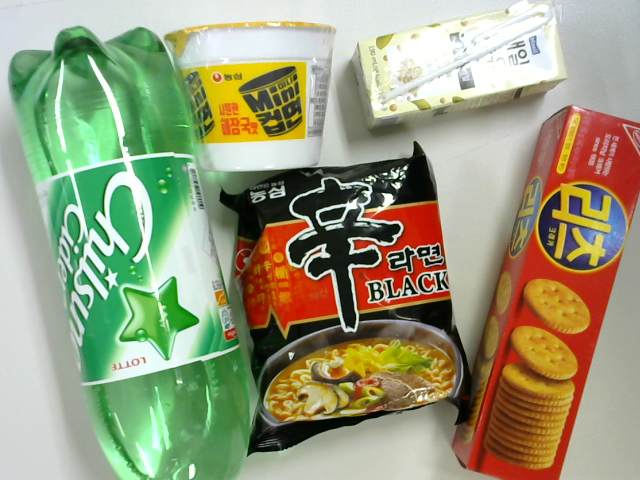99.89_Soymilk: (351, 2, 571, 124)
Chilseong_Cider_1.5L: (7, 26, 251, 480)
Hejangmini: (171, 22, 335, 172)
Ritz_Cracker: (465, 108, 640, 478)
Sinramen_Black: (203, 144, 473, 454)
